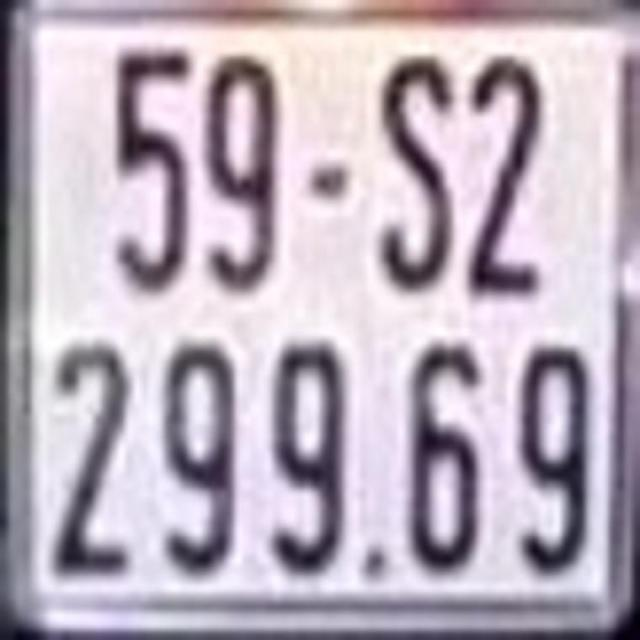2: (53, 336, 135, 575), (471, 54, 548, 300)
5: (110, 49, 193, 306)
6: (411, 342, 478, 564)
9: (273, 339, 347, 568), (207, 55, 276, 296), (164, 337, 234, 570), (520, 345, 586, 568)
S: (379, 49, 456, 290)
